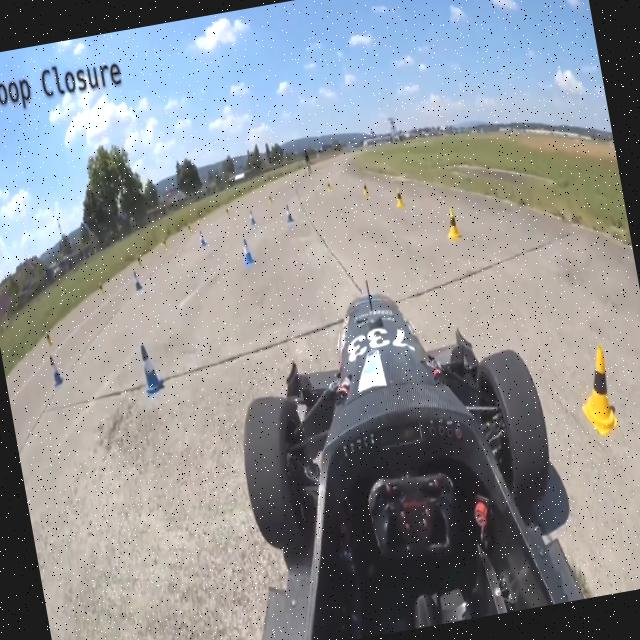blue_cone: (138, 342, 165, 396), (49, 352, 65, 388), (240, 235, 255, 265), (132, 270, 142, 290), (284, 202, 294, 222)
yellow_cone: (572, 342, 620, 438), (442, 205, 462, 241), (393, 185, 405, 209)
